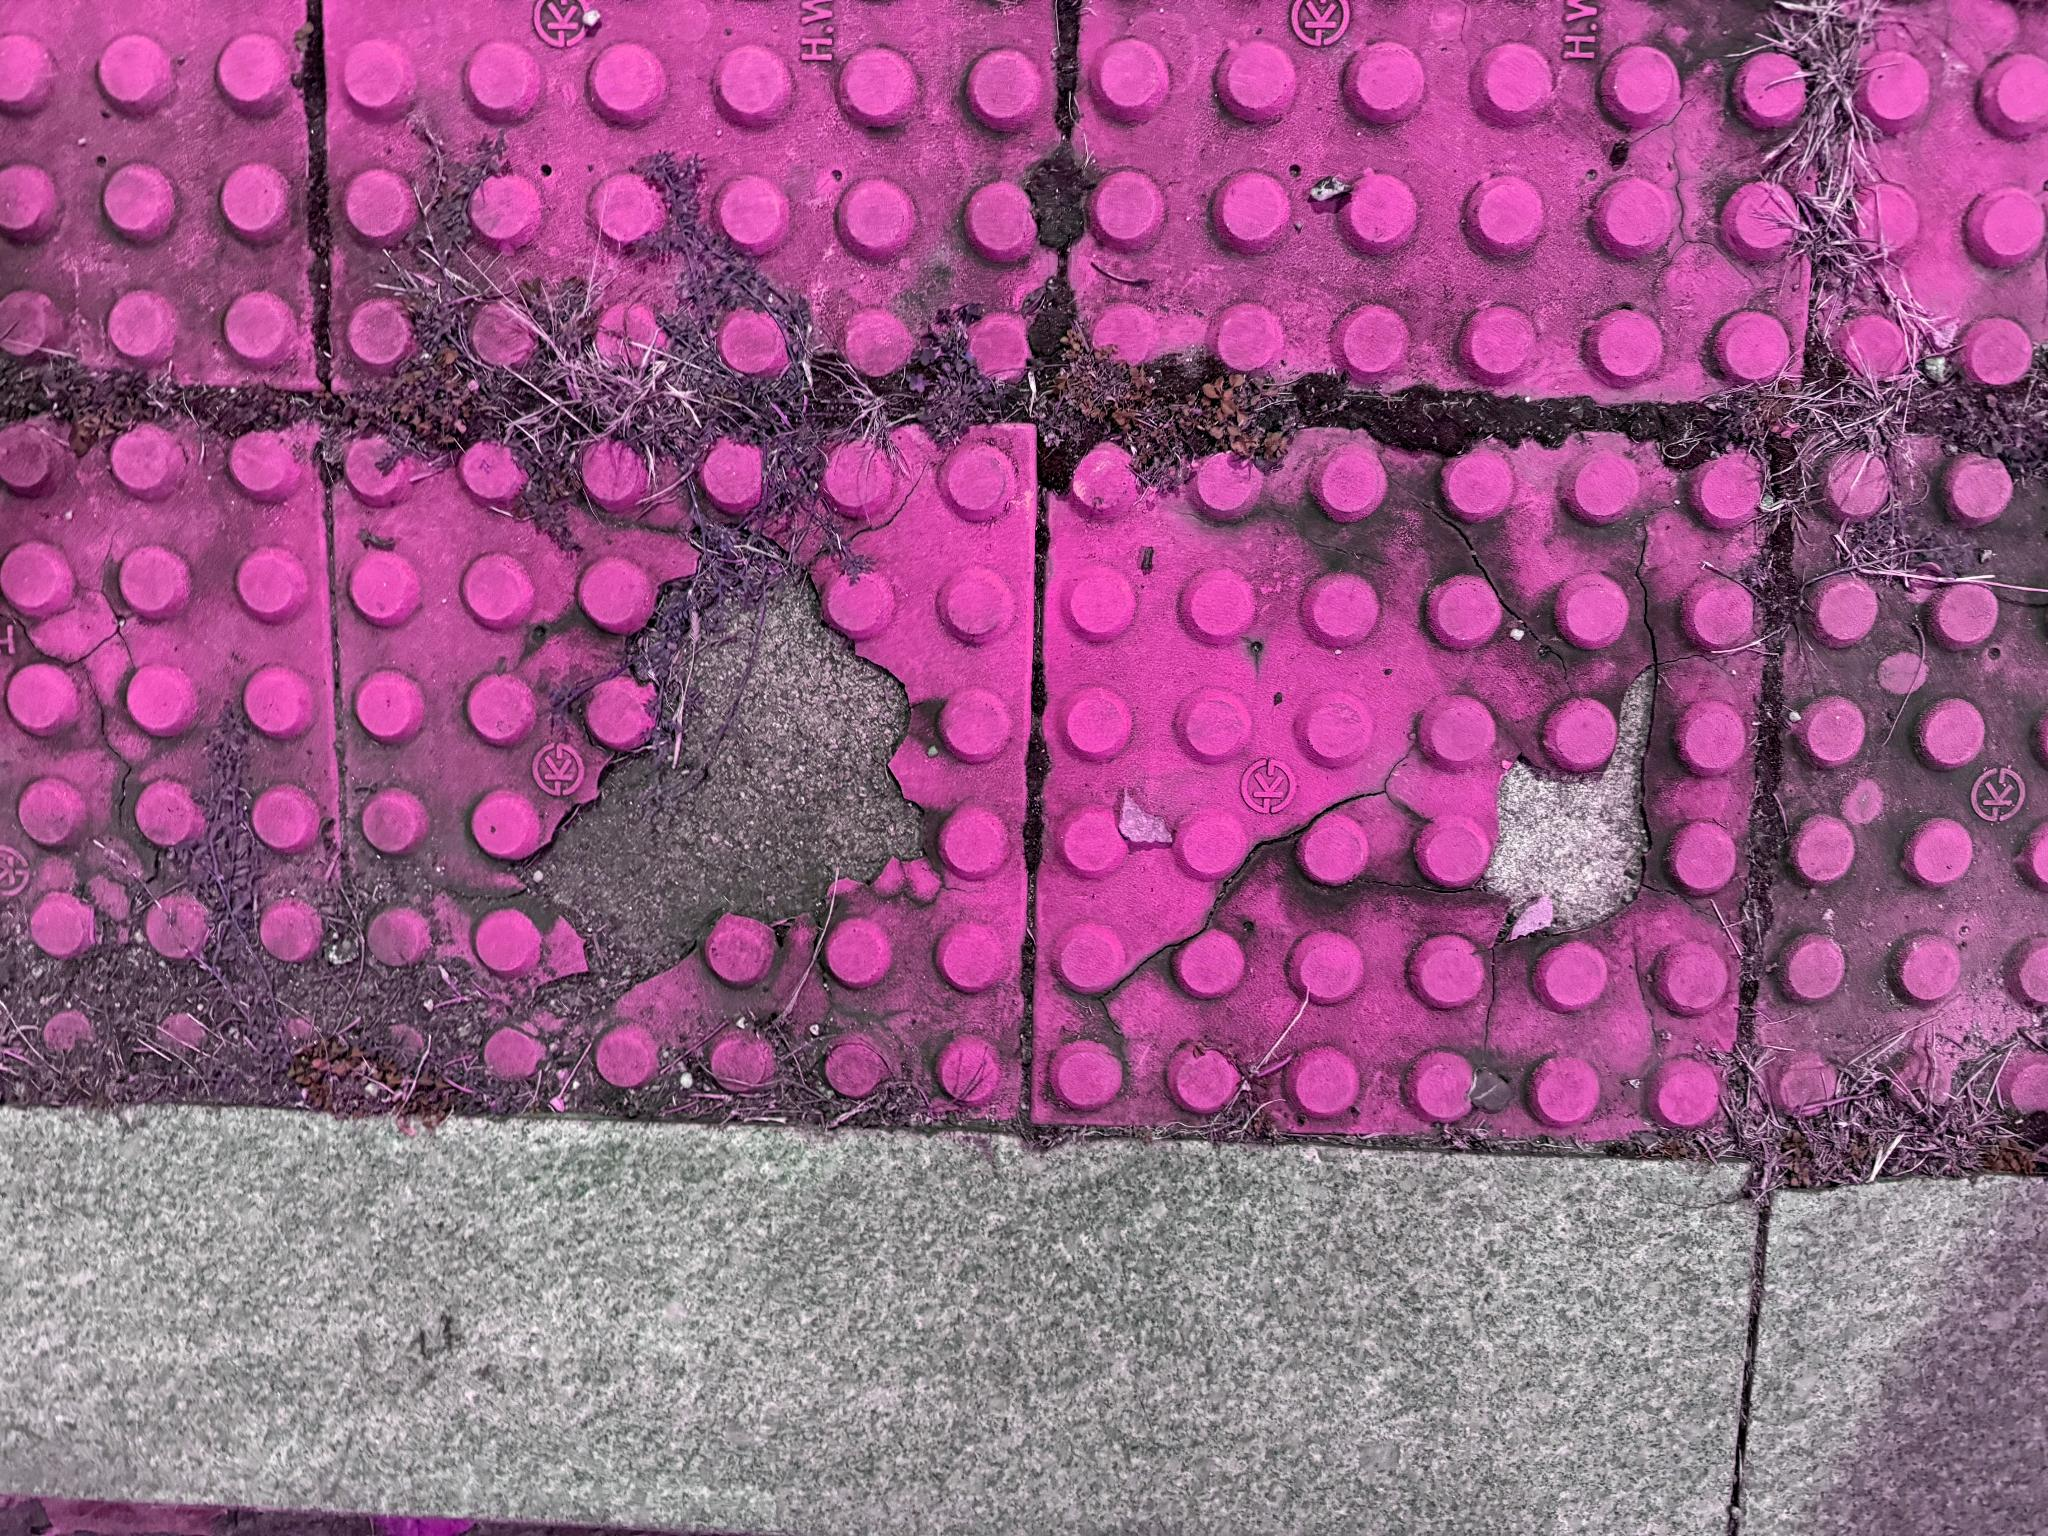Stop block broken: (426, 357, 1105, 1020), (393, 1046, 1097, 1536)
